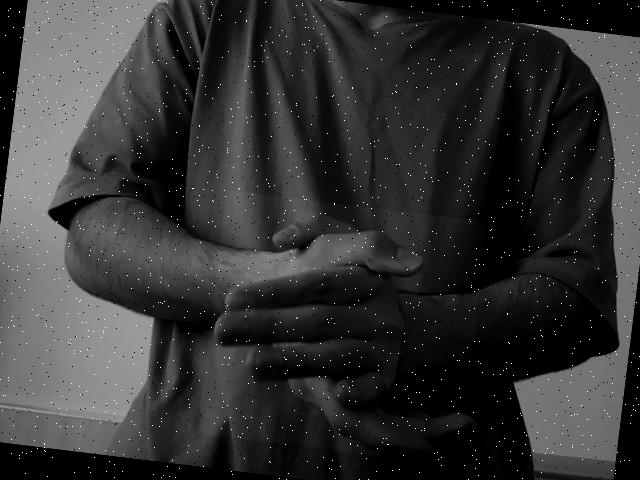friend: (209, 201, 460, 461)
